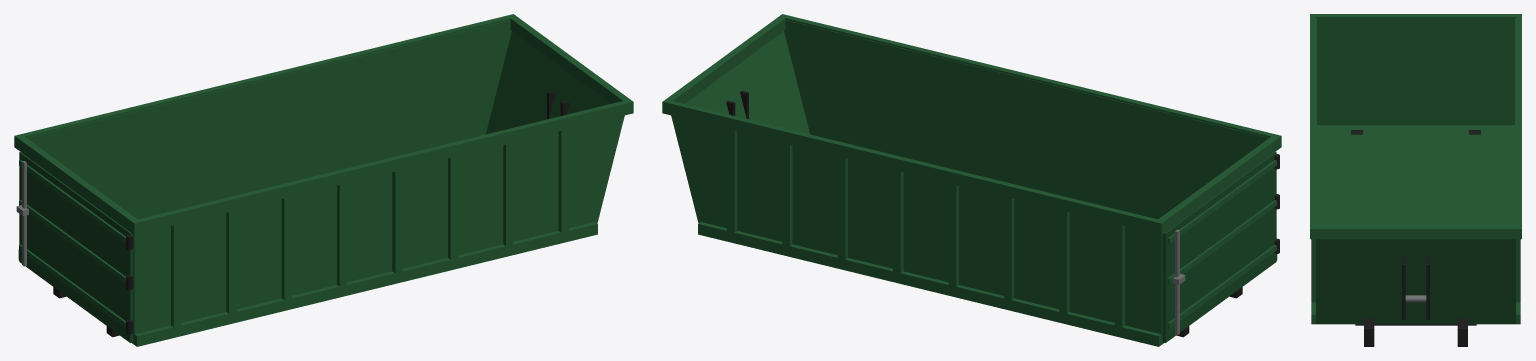
The model's file is Roll_Off_Dumpster_20yd.glb.
3 views of the same model, side by side, from view 1: azimuth 30°, elevation 25°; view 2: azimuth 150°, elevation 25°; view 3: azimuth 270°, elevation 25° (orthographic). The views are drawn at different scales.
Parts seen in each view (by area): view 1: body_dc1fee, body_caf4c7, door_panel_a3f530, top_rail_left_722f89, body_79b6d3, bottom_side_rail_-1_b59881, top_rail_left_b8fe16, top_rail_right_9339c3, top_rail_rear_a8a664, top_rail_front_fd8dc7, bottom_side_rail_-1_15e77b, top_rail_right_57460a (+14 smaller); view 2: body_ddae4d, body_1e6a25, door_panel_a3f530, top_rail_right_f4d2c2, body_79b6d3, bottom_side_rail_1_1a69f8, top_rail_right_9339c3, top_rail_left_b8fe16, top_rail_rear_a8a664, top_rail_front_fd8dc7, bottom_side_rail_1_a193e1, top_rail_left_2f2067 (+14 smaller); view 3: body_a49c5a, body_a7d6c3, body_cc399d, top_rail_front_8c8c07, top_rail_rear_b5de9e, top_rail_right_9339c3, top_rail_left_b8fe16, top_rail_rear_ef034b, top_rail_front_d17f9b, body_028cfd, rib_-1_7_bf727b, rib_1_7_29cc73 (+6 smaller).
Boxes of the visible parts, <box> form: body_dc1fee: <box>27,20,511,219</box>; body_caf4c7: <box>134,115,624,334</box>; door_panel_a3f530: <box>19,152,130,342</box>; top_rail_left_722f89: <box>134,102,633,234</box>; body_79b6d3: <box>486,31,610,134</box>; bottom_side_rail_-1_b59881: <box>137,224,597,346</box>; top_rail_left_b8fe16: <box>132,100,632,222</box>; top_rail_right_9339c3: <box>16,14,515,136</box>; top_rail_rear_a8a664: <box>14,136,134,234</box>; top_rail_front_fd8dc7: <box>510,18,622,103</box>; bottom_side_rail_-1_15e77b: <box>135,222,597,336</box>; top_rail_right_57460a: <box>25,18,510,137</box>; body_ddae4d: <box>784,20,1268,219</box>; body_1e6a25: <box>671,115,1161,334</box>; door_panel_a3f530: <box>1165,152,1276,342</box>; top_rail_right_f4d2c2: <box>662,103,1161,233</box>; body_79b6d3: <box>685,31,809,134</box>; bottom_side_rail_1_1a69f8: <box>698,224,1158,346</box>; top_rail_right_9339c3: <box>663,100,1163,223</box>; top_rail_left_b8fe16: <box>779,14,1279,136</box>; top_rail_rear_a8a664: <box>1161,136,1281,234</box>; top_rail_front_fd8dc7: <box>673,18,785,103</box>; bottom_side_rail_1_a193e1: <box>698,222,1160,336</box>; top_rail_left_2f2067: <box>785,18,1270,137</box>; body_a49c5a: <box>1317,125,1514,225</box>; body_a7d6c3: <box>1317,27,1514,125</box>; body_cc399d: <box>1316,239,1515,324</box>; top_rail_front_8c8c07: <box>1310,229,1521,239</box>; top_rail_rear_b5de9e: <box>1316,17,1515,27</box>; top_rail_right_9339c3: <box>1516,14,1521,228</box>; top_rail_left_b8fe16: <box>1310,14,1315,228</box>; top_rail_rear_ef034b: <box>1310,14,1521,16</box>; top_rail_front_d17f9b: <box>1310,226,1521,228</box>; body_028cfd: <box>1316,18,1515,225</box>; rib_-1_7_bf727b: <box>1311,239,1315,302</box>; rib_1_7_29cc73: <box>1516,239,1520,302</box>.
Size of the model in its own units: 6.07 by 1.55 by 2.44.
